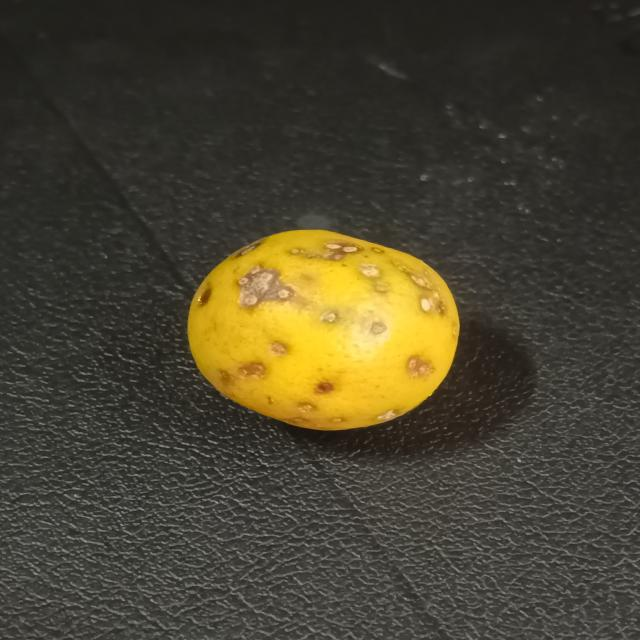black spot: (182, 223, 465, 431)
